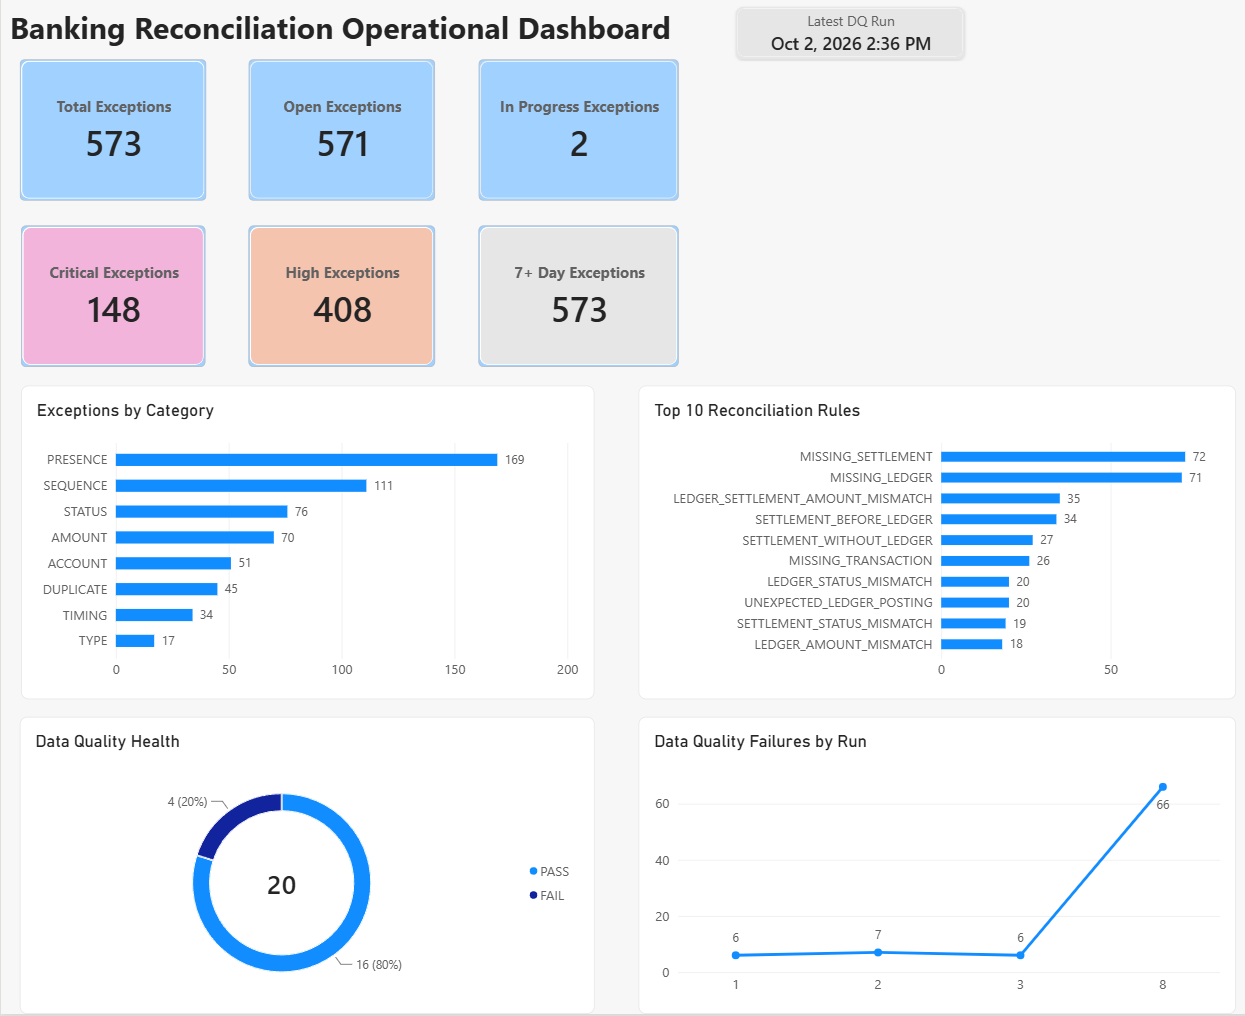

The page's visual inventory and layout, read from the dashboard file:
{"tool":"powerbi","page":{"name":"Overview","canvas":[1920,1080],"ordinal":0},"visuals":[{"type":"cardVisual","fields":{"Data":["Exception KPIs.Total Exceptions"]},"box":[19.9,65.1,198,150.2],"z":0},{"type":"cardVisual","fields":{"Data":["Exception KPIs.Open Exceptions"]},"box":[263.1,65.1,198,150.2],"z":1000},{"type":"cardVisual","fields":{"Data":["Exception KPIs.In Progress Exceptions"]},"box":[507.6,65.1,214,150.2],"z":2000},{"type":"cardVisual","fields":{"Data":["Exception KPIs.Critical Exceptions"]},"box":[21.3,241.9,196.7,150.2],"z":3000},{"type":"cardVisual","fields":{"Data":["Exception KPIs.High Exceptions"]},"box":[263.1,241.9,198,150.2],"z":4000},{"type":"cardVisual","fields":{"Data":["Exception Aging.7+ Day Exceptions"]},"box":[507.6,241.9,214,150.2],"z":5000},{"type":"clusteredBarChart","title":"Exceptions by Category","fields":{"Category":["Exception Categories.category"],"Y":["Sum(Exception Categories.exception_count)"]},"box":[21.3,412,610,333.6],"z":6000},{"type":"clusteredBarChart","title":"Top 10 Reconciliation Rules","fields":{"Category":["Exception Rules.rule_name"],"Y":["Sum(Exception Rules.exception_count)"]},"box":[677.7,412,635.2,333.6],"z":7000},{"type":"donutChart","title":"Data Quality Health","fields":{"Category":["DQ Current.result_status"],"Y":["CountNonNull(DQ Current.check_code)"]},"box":[19.9,764.1,611.3,316.3],"z":8000},{"type":"lineChart","title":"Data Quality Failures by Run","fields":{"Category":["DQ Run Trend.run_id"],"Y":["Sum(DQ Run Trend.total_failures)"]},"box":[677.7,764.1,635.2,316.3],"z":9000},{"type":"textbox","box":[9.3,9.3,712.3,65.1],"z":10000},{"type":"cardVisual","fields":{"Data":["DQ Run Trend.Latest DQ Run Display"]},"box":[781.4,9.3,243.2,55.8],"z":11000}]}

Visuals, with their boxes on the page's 1920x1080 design canvas (x1, y1, x2, y2). These are canvas units, not pixel positions in the 1245x1016 screenshot, which may show the page scaled, cropped or inside an application window:
cardVisual - Exception KPIs.Total Exceptions: 20,65,218,215
cardVisual - Exception KPIs.Open Exceptions: 263,65,461,215
cardVisual - Exception KPIs.In Progress Exceptions: 508,65,722,215
cardVisual - Exception KPIs.Critical Exceptions: 21,242,218,392
cardVisual - Exception KPIs.High Exceptions: 263,242,461,392
cardVisual - Exception Aging.7+ Day Exceptions: 508,242,722,392
"Exceptions by Category" clusteredBarChart: 21,412,631,746
"Top 10 Reconciliation Rules" clusteredBarChart: 678,412,1313,746
"Data Quality Health" donutChart: 20,764,631,1080
"Data Quality Failures by Run" lineChart: 678,764,1313,1080
textbox: 9,9,722,74
cardVisual - DQ Run Trend.Latest DQ Run Display: 781,9,1025,65
